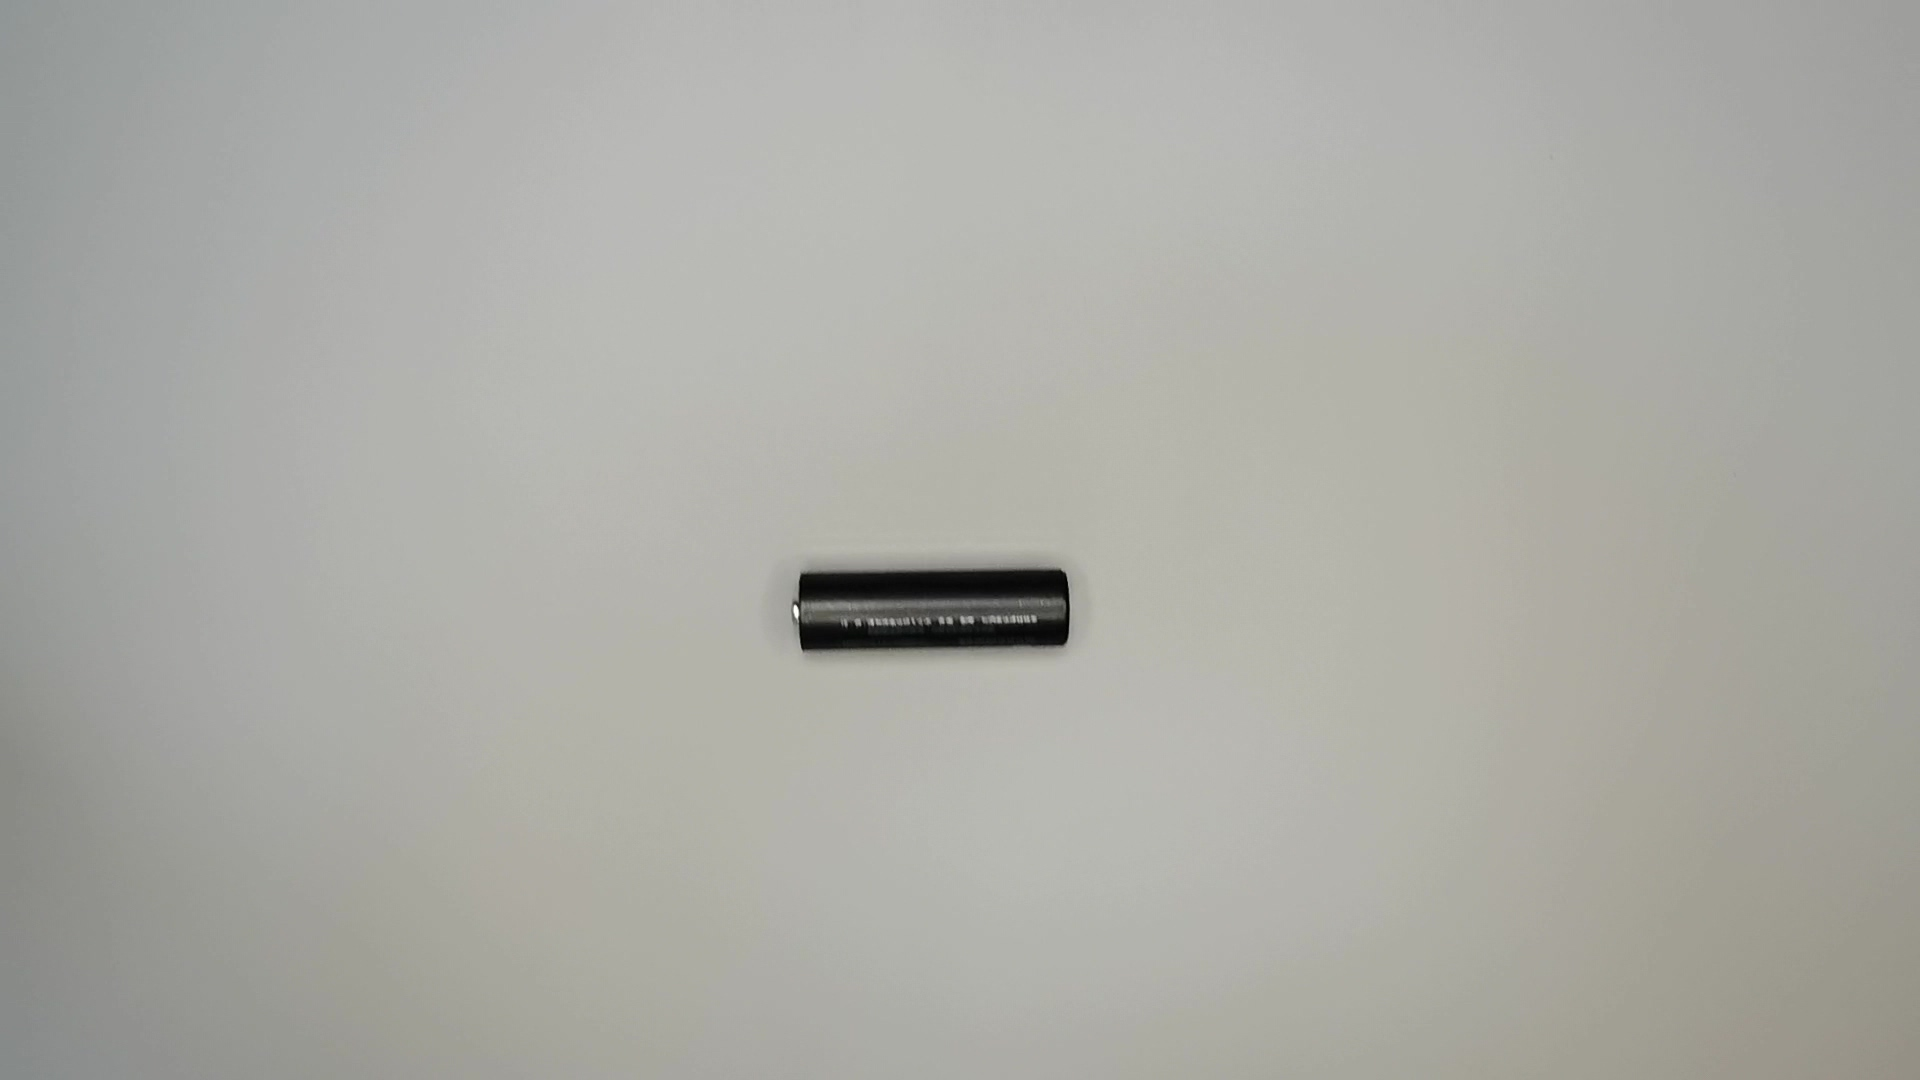battery: (791, 567, 1083, 653)
